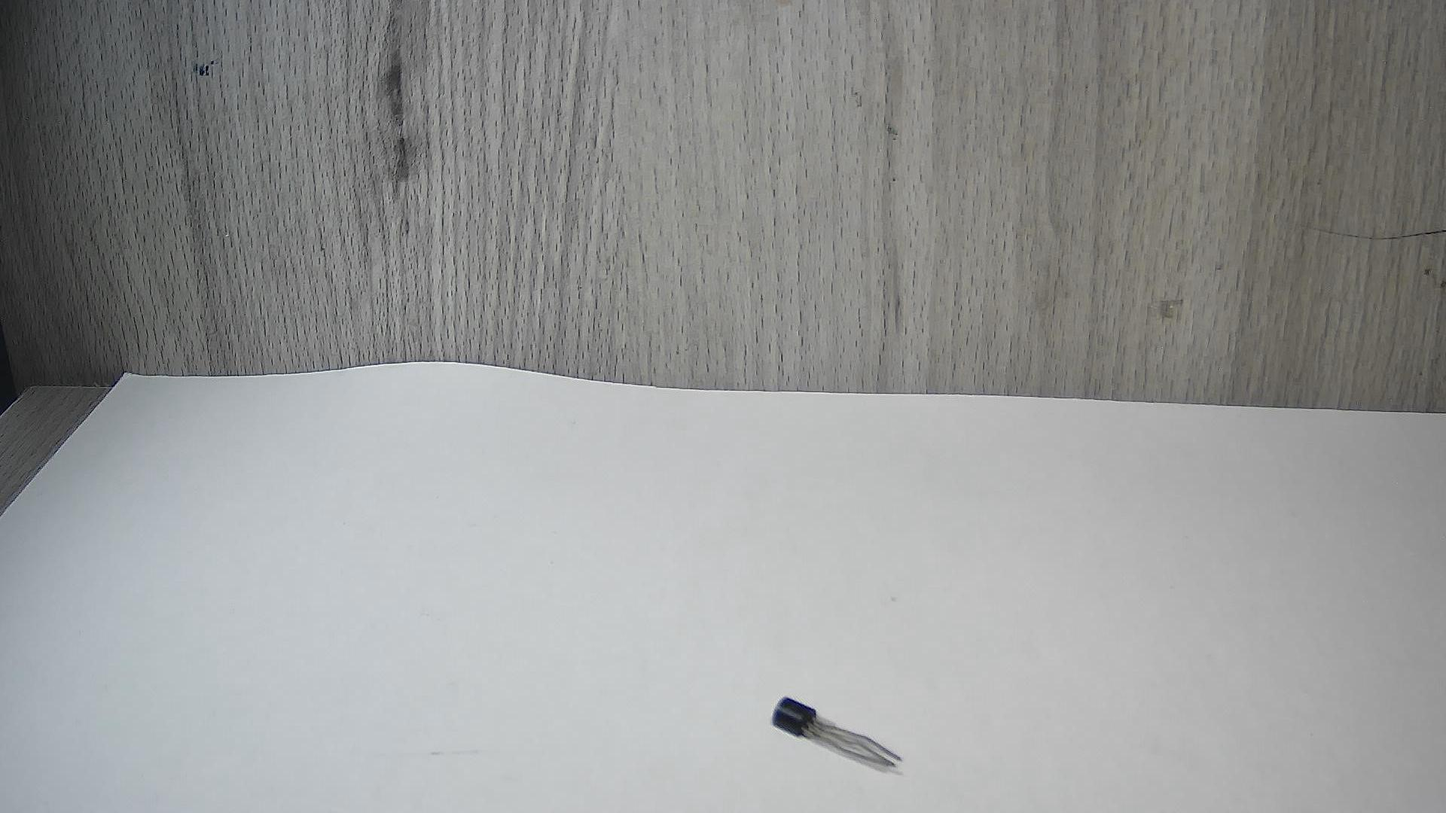Transistor: (756, 675, 931, 795)
